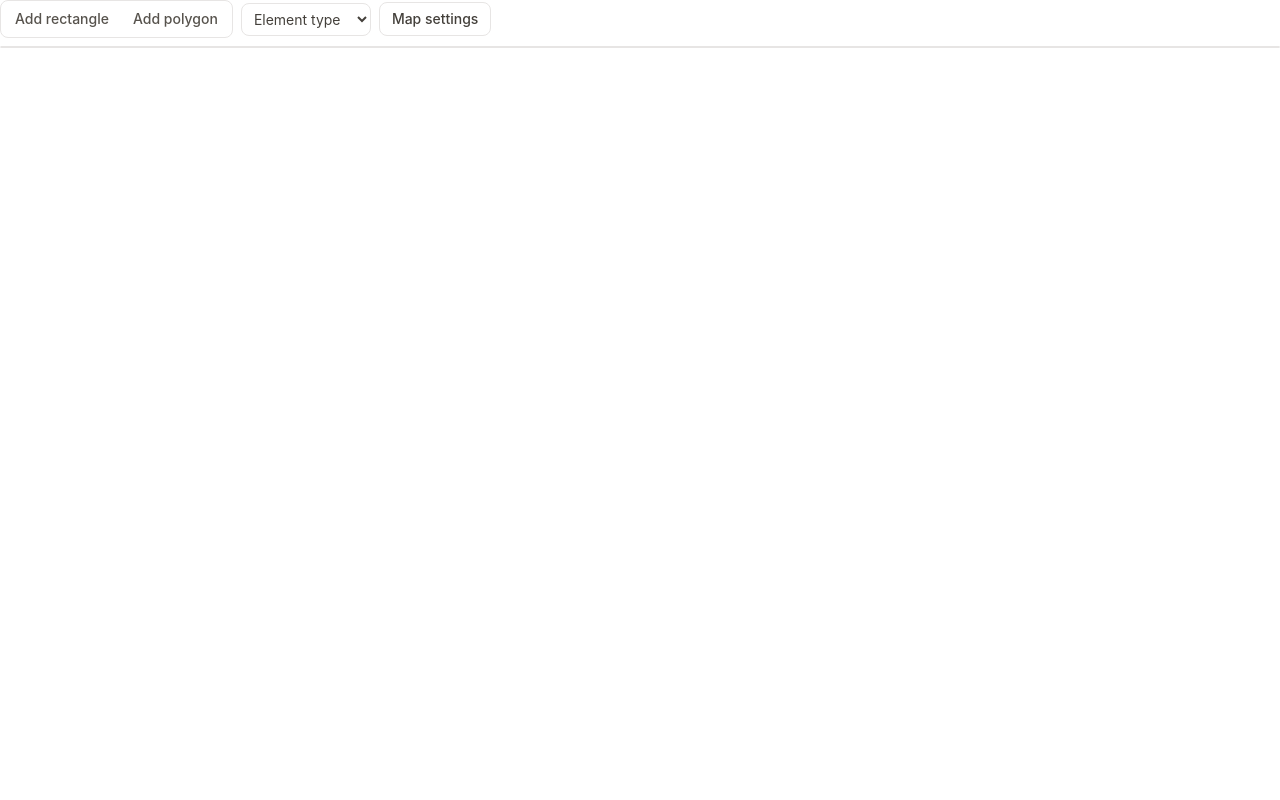
Scenario: GridMapEditor › keeps background controls behind the Map settings overflow, not in the toolbar
Click the button with test id "map-settings-toggle": point(435, 19) [379,2,491,36]
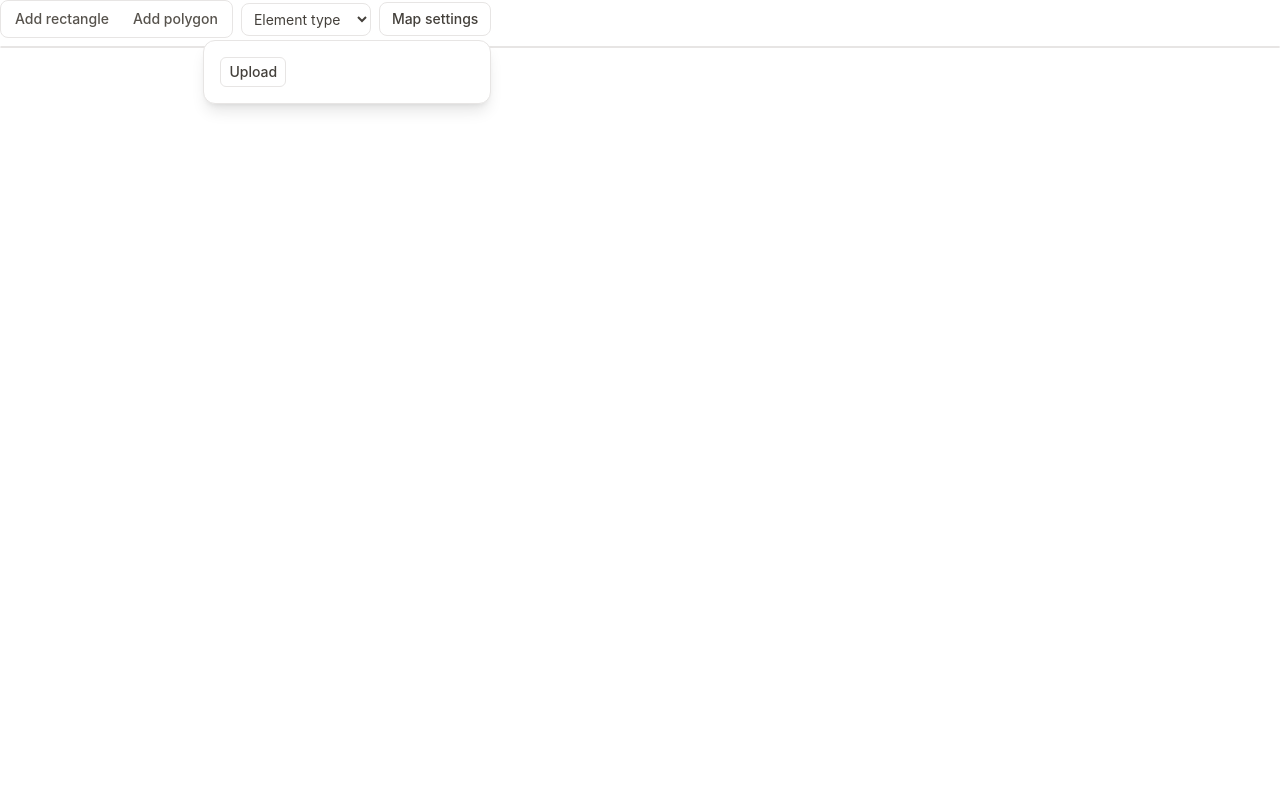
expect the dialog with test id "map-settings-panel" is shown: met, box [203,40,491,104]
expect the button with test id "map-background-upload" is shown: met, box [220,57,286,87]
# Toggling again closes it.
Click the button with test id "map-settings-toggle": point(435, 19) [379,2,491,36]
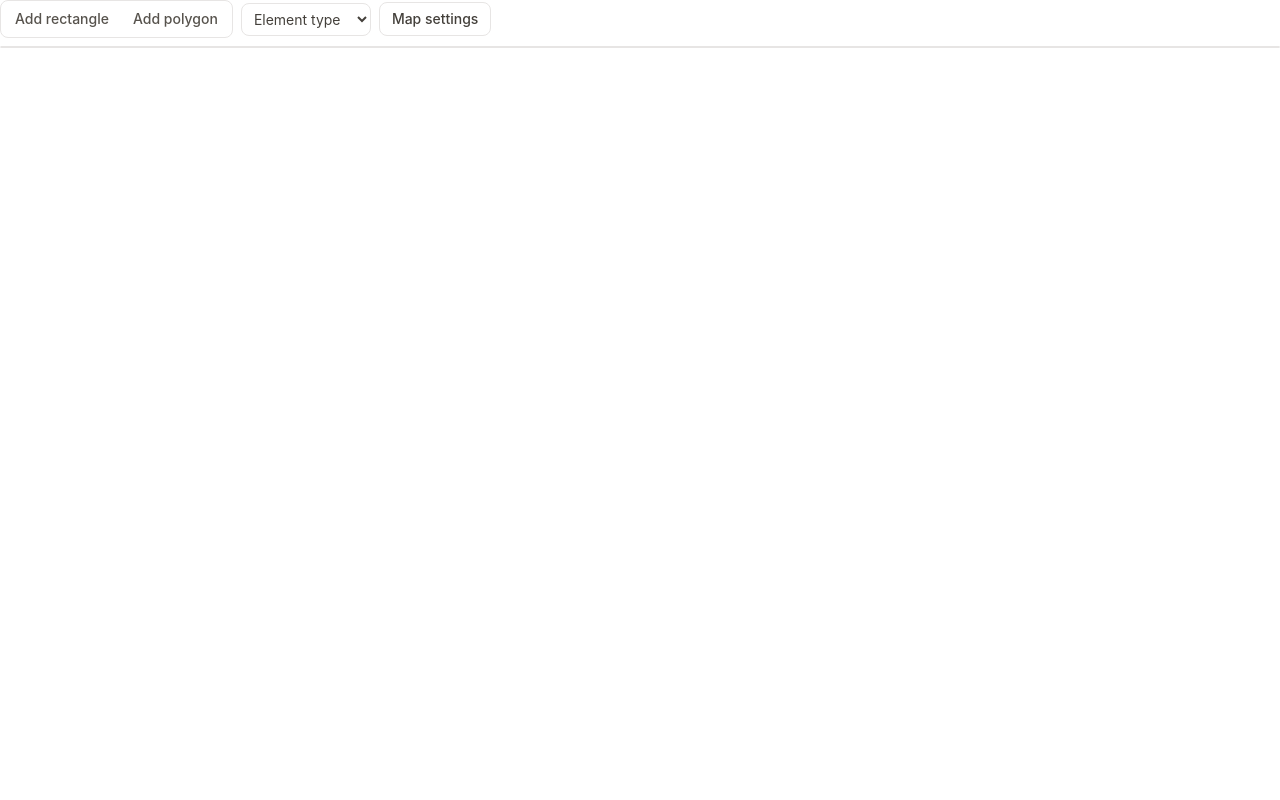
expect the dialog with test id "map-settings-panel" is gone: met
